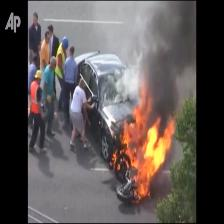fire: (120, 79, 175, 199)
